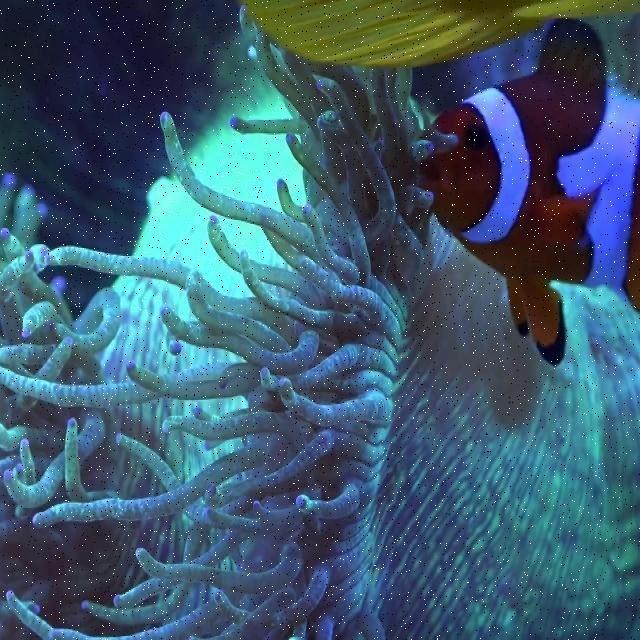fish: (418, 18, 639, 367)
reefs: (0, 30, 638, 637)
